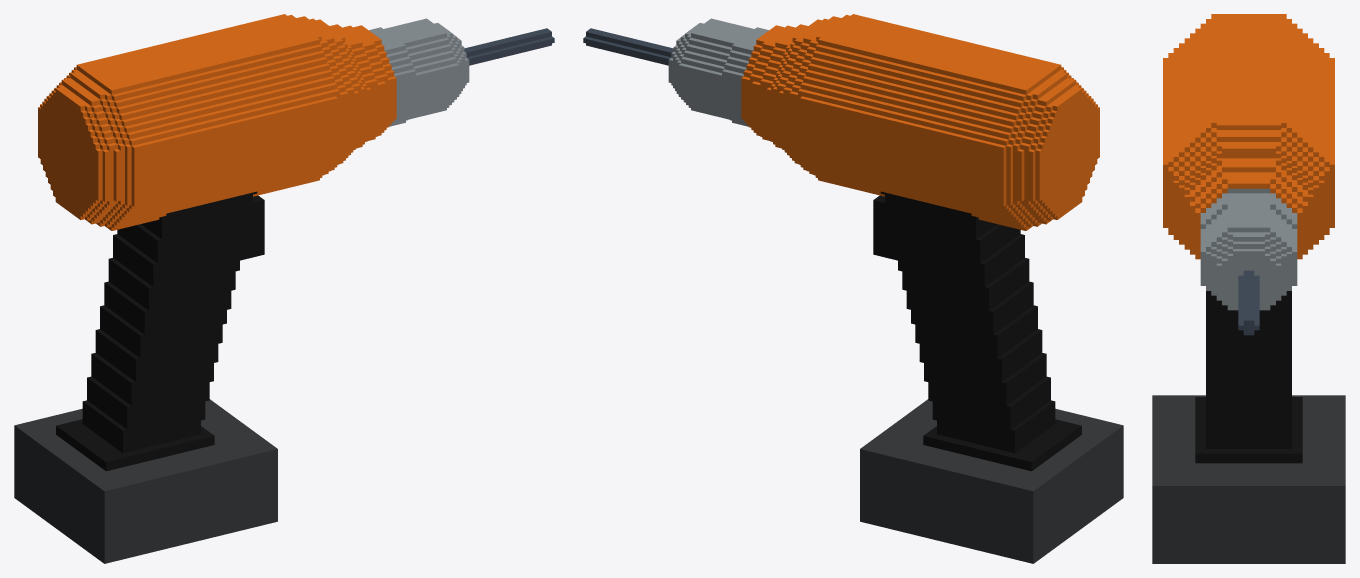
Rendered from cordless_drill.glb.
The picture shows the model from 3 angles, left to right: view 1: azimuth 30°, elevation 25°; view 2: azimuth 150°, elevation 25°; view 3: azimuth 270°, elevation 25°; orthographic projection. The views are drawn at different scales.
Visible parts, largest first — view 1: cordless_drill:compound; view 2: cordless_drill:compound; view 3: cordless_drill:compound.
Part boxes in pixels (bbox=[...]): cordless_drill:compound: bbox=[14, 14, 554, 563]; cordless_drill:compound: bbox=[583, 14, 1123, 563]; cordless_drill:compound: bbox=[1152, 14, 1345, 563].
Size of the model in its own units: 0.226 by 0.196 by 0.072.
